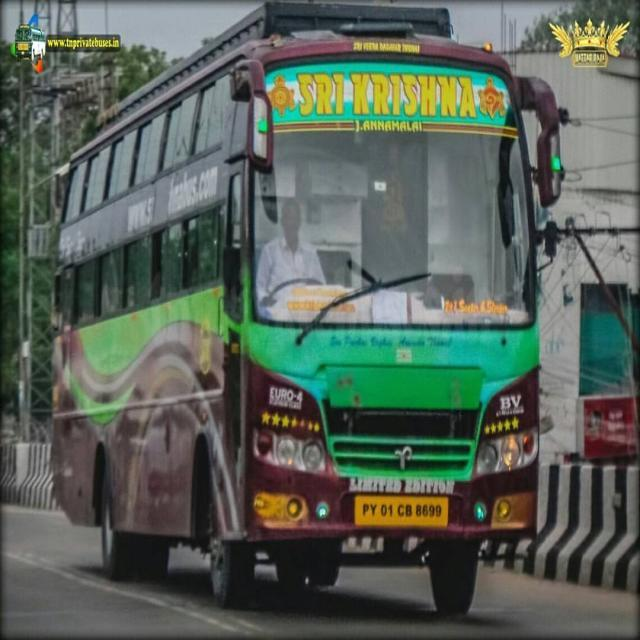Bus: (45, 5, 568, 618)
